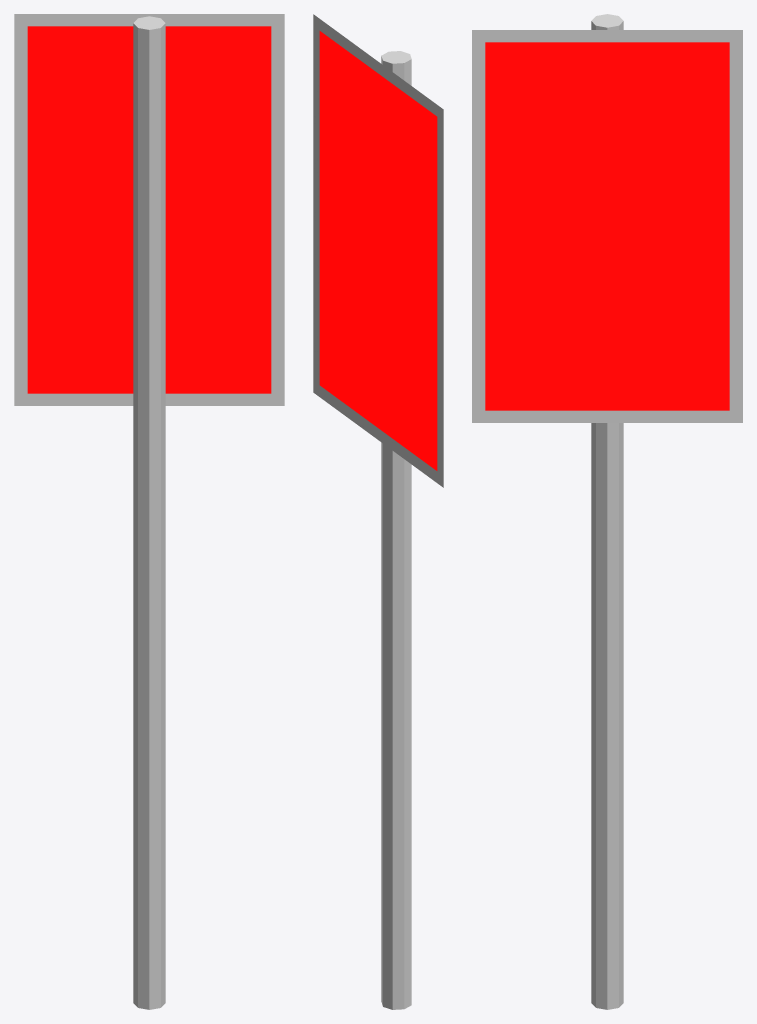
File: flag_red.glb
3 views of the same model, side by side, from view 1: azimuth 90°, elevation 25°; view 2: azimuth 210°, elevation 25°; view 3: azimuth 270°, elevation 25° (orthographic). The views are drawn at different scales.
Visible parts, largest first — view 1: cloth, pole; view 2: cloth, pole; view 3: cloth, pole.
Boxes of the visible parts, box(x1,y1,x2,y2) form: cloth: box(14, 14, 284, 405); pole: box(133, 16, 165, 1009); cloth: box(313, 14, 443, 487); pole: box(381, 51, 411, 1009); cloth: box(472, 30, 742, 422); pole: box(591, 14, 623, 1009).
Bounding box in the file's own units: 0.07 × 2 × 0.5.
